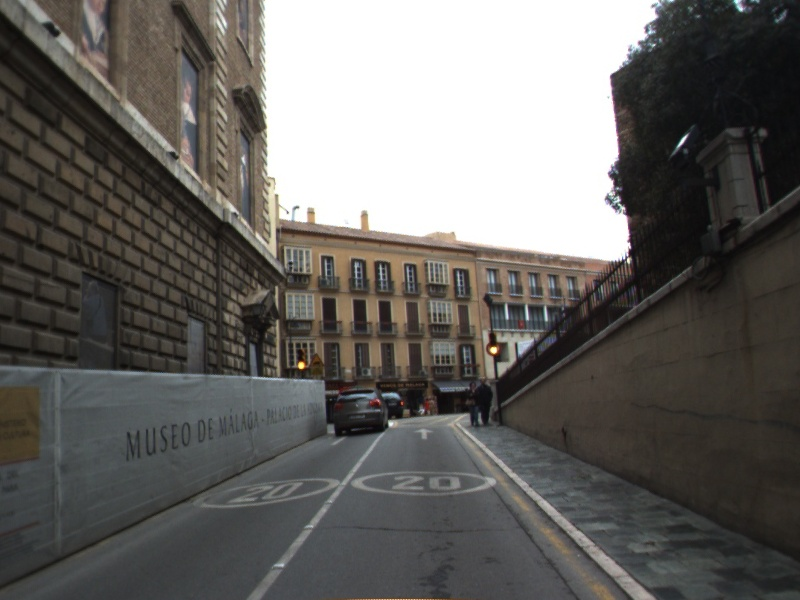STRAIGHT: (412, 426, 436, 441)
